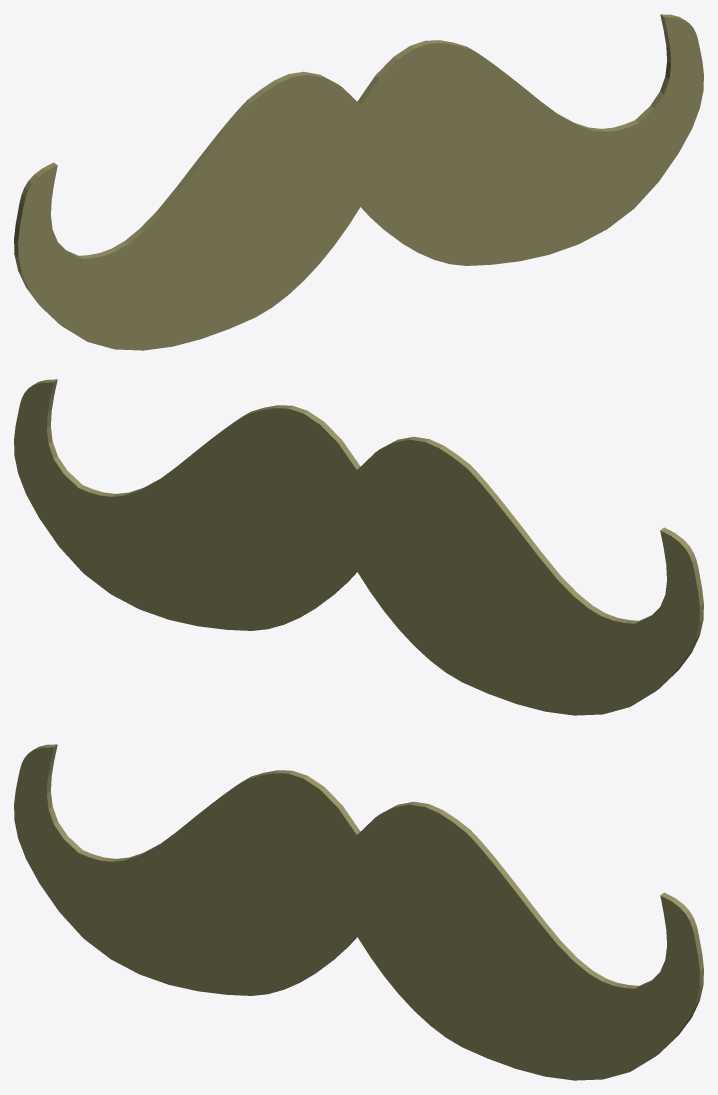
The model's file is bart000.obj.
The picture shows the model from 3 angles, top to bottom: view 1: azimuth 30°, elevation 25°; view 2: azimuth 150°, elevation 25°; view 3: azimuth 330°, elevation 25°; orthographic projection.
Parts seen in each view (by area): view 1: Bart; view 2: Bart; view 3: Bart.
Part boxes in pixels (left/top/right/bottom): Bart: left=14, top=14, right=703, bottom=350; Bart: left=14, top=379, right=703, bottom=715; Bart: left=14, top=744, right=703, bottom=1080.
Bounding box in the file's own units: 1.65 × 0.551 × 0.017.
